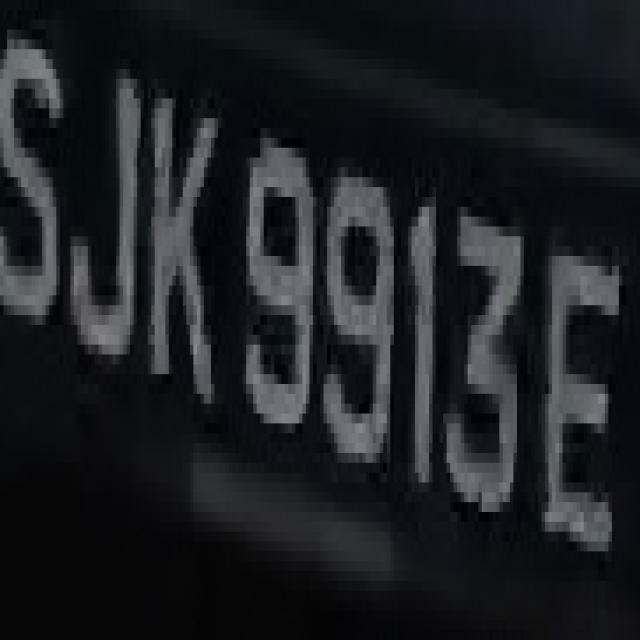1: (412, 108, 446, 502)
3: (450, 168, 531, 552)
9: (316, 118, 404, 512), (239, 118, 320, 453)
E: (538, 197, 626, 620)
J: (70, 39, 144, 364)
K: (144, 30, 218, 443)
S: (4, 19, 70, 354)
